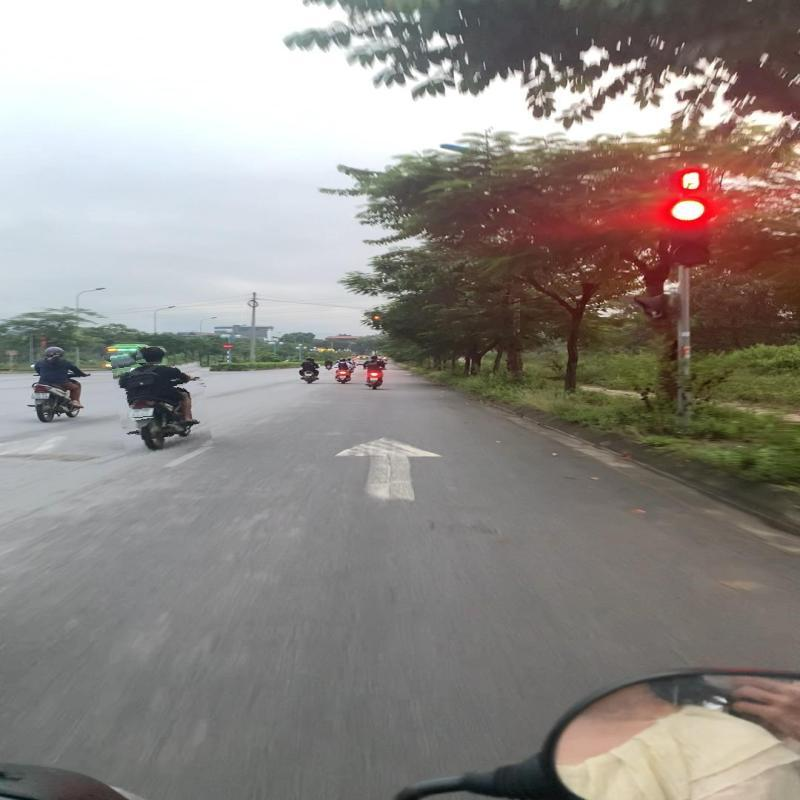licenseplate: (127, 406, 157, 418)
motorcyclist: (114, 346, 210, 456)
nohelmet: (136, 346, 169, 365)
